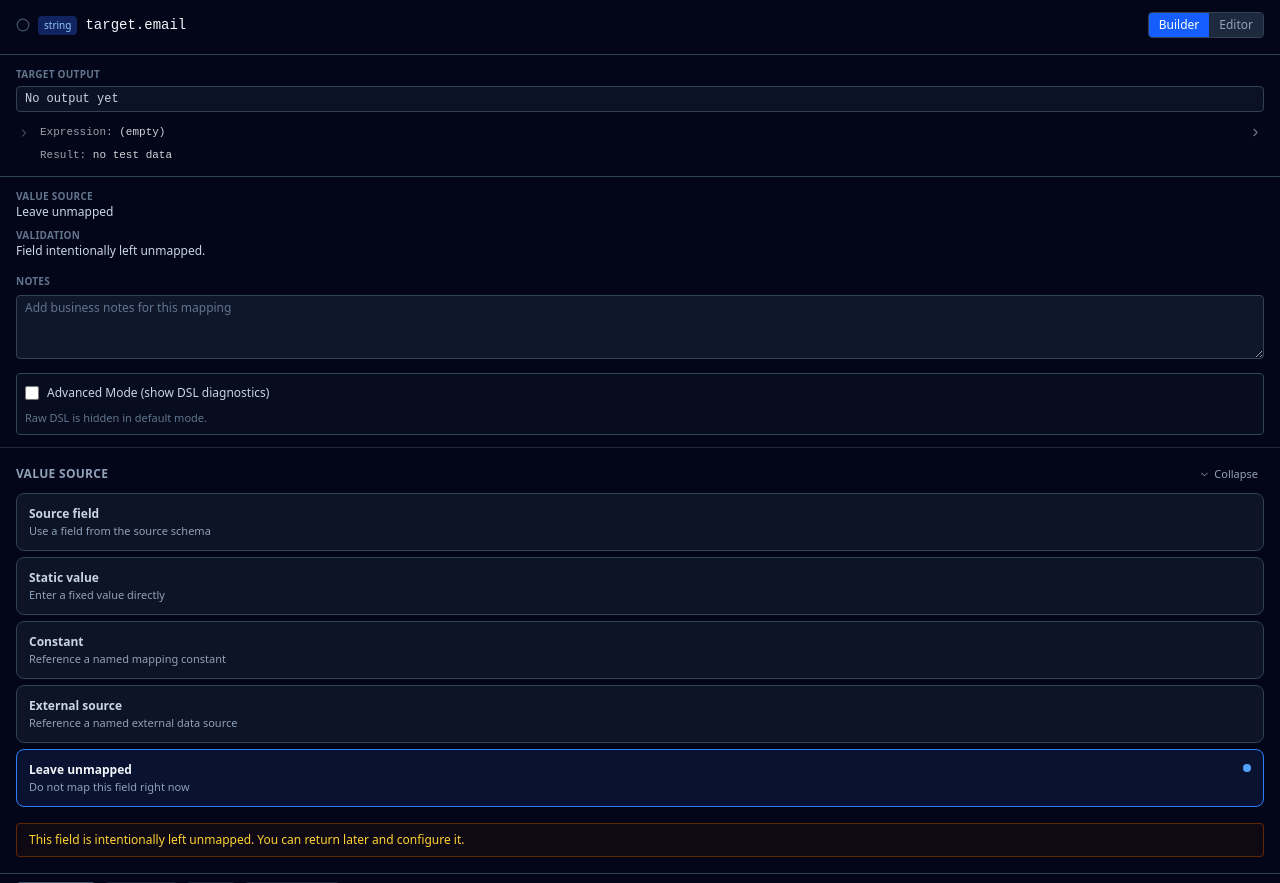
Test: ScalarFieldBuilder — UnifiedExpressionBuilder integration › switches back to builder mode when Builder toggle is clicked
This screenshot has width=1280, height=883.
Click the button with test id "mode-toggle-editor" at (1236, 25), box left=1209, top=13, right=1263, bottom=37
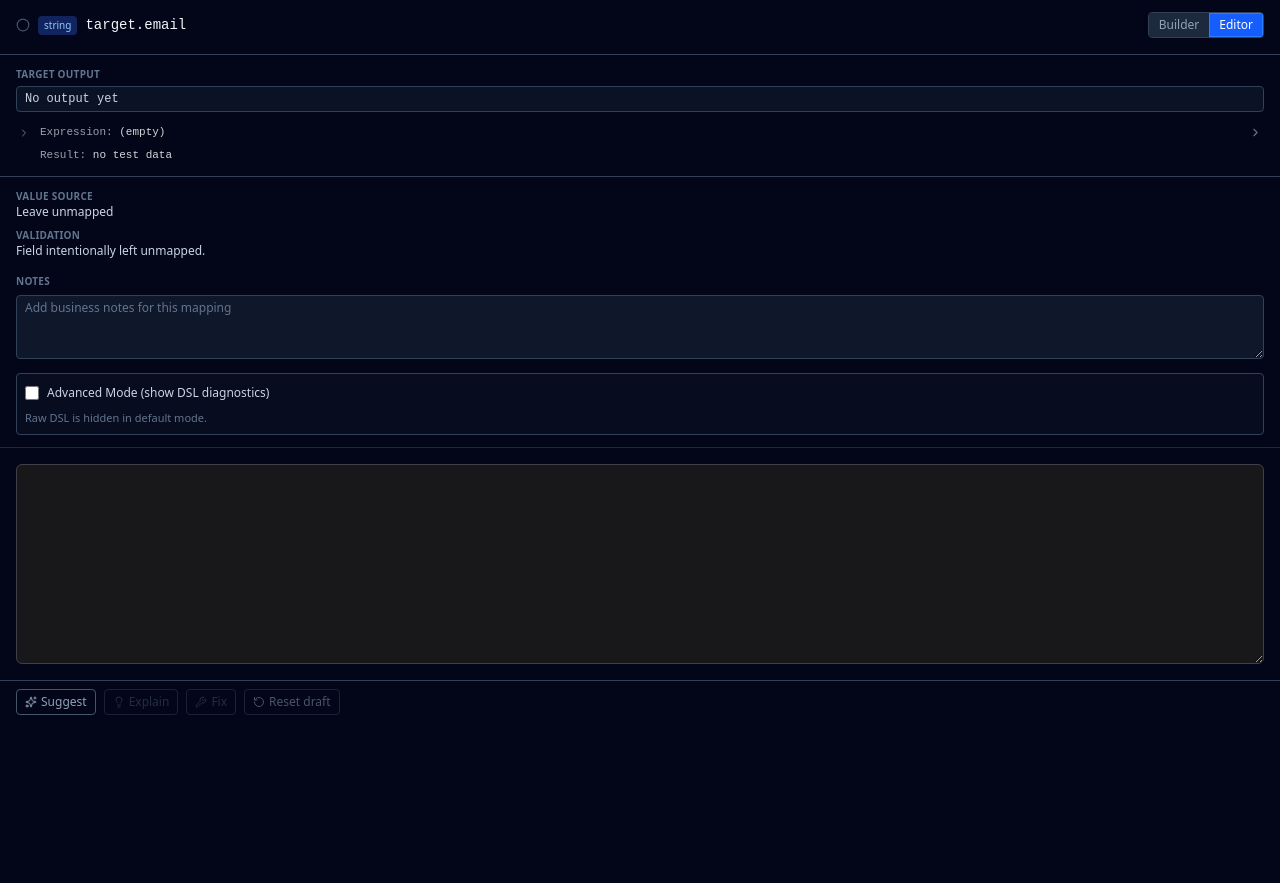
Click the button with test id "mode-toggle-builder" at (1179, 25), box left=1149, top=13, right=1209, bottom=37
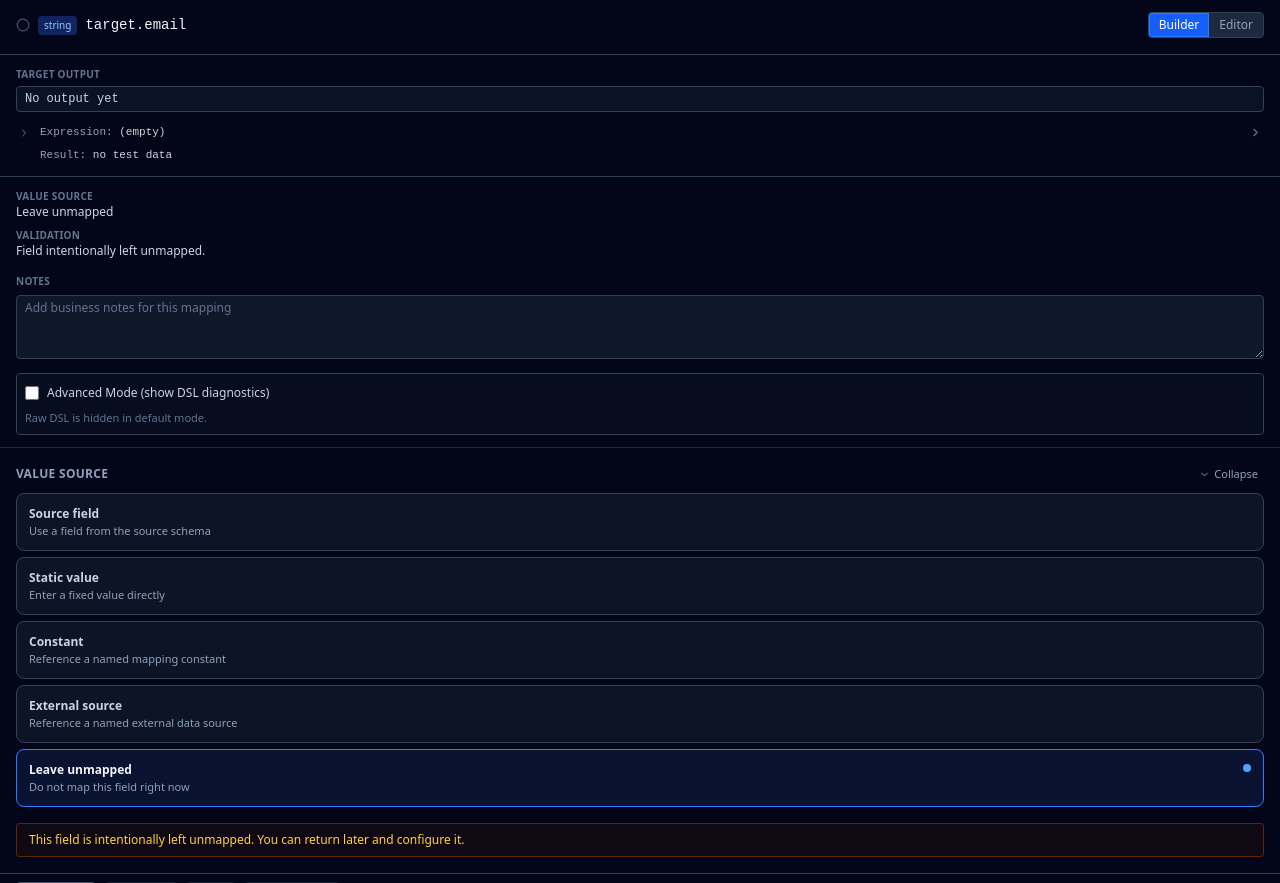
Result: the element with test id "expression-builder-slot" is shown at left=16, top=464, right=1264, bottom=857
